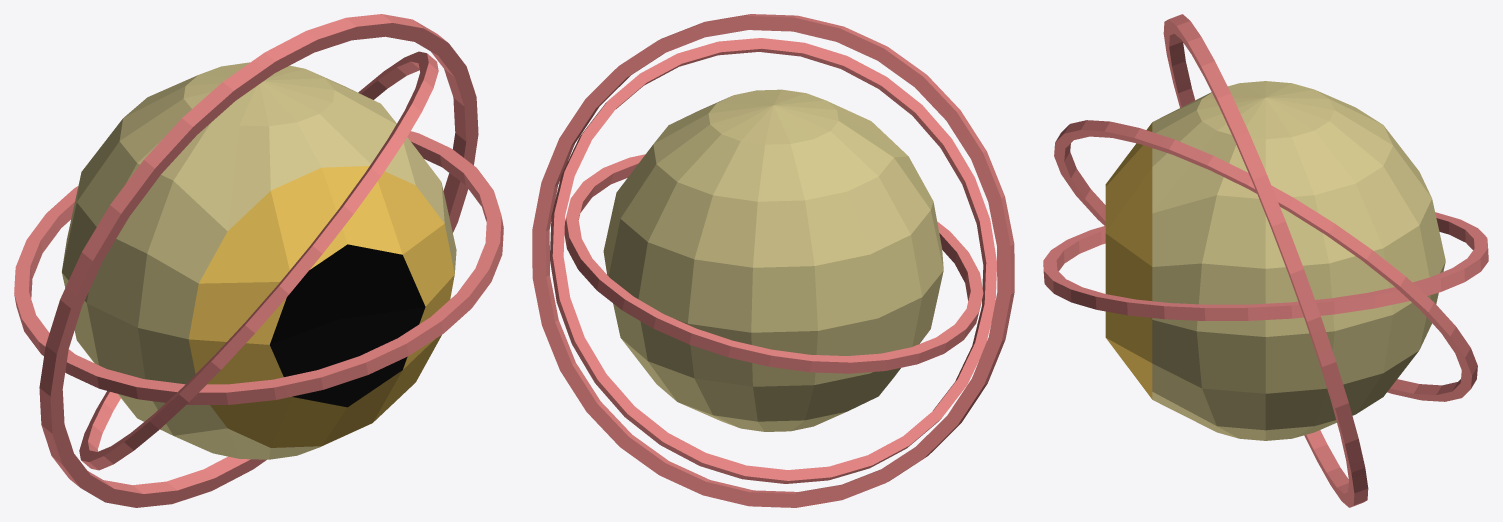
Rendered from EyeblendsmallAnim_v3.fbx.
3 views of the same model, side by side, from view 1: azimuth 30°, elevation 25°; view 2: azimuth 150°, elevation 25°; view 3: azimuth 270°, elevation 25° (orthographic). The views are drawn at different scales.
Visible parts, largest first — view 1: Eye.002, Circle3; view 2: Eye.002, Circle3; view 3: Eye.002, Circle3.
Boxes of the visible parts, <box> form: Eye.002: <box>62,62,456,459</box>; Circle3: <box>14,14,503,507</box>; Eye.002: <box>603,89,943,431</box>; Circle3: <box>532,14,1014,507</box>; Eye.002: <box>1105,81,1445,440</box>; Circle3: <box>1043,14,1488,507</box>.
Bounding box in the file's own units: 273 × 271 × 238.
